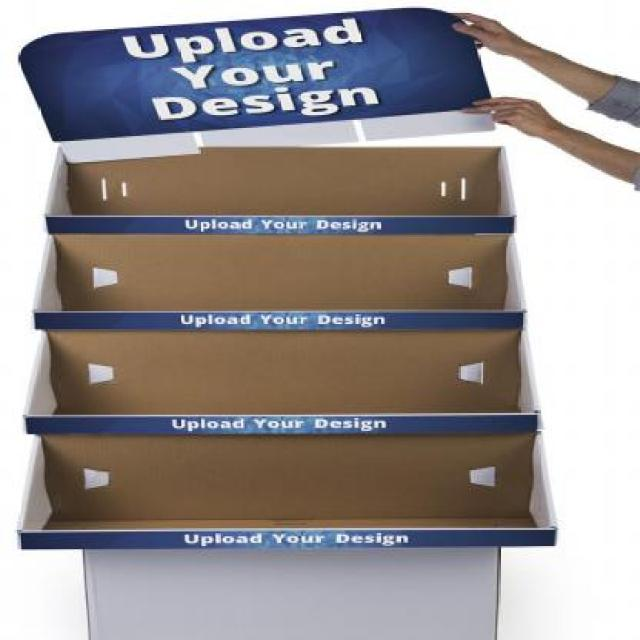box: (6, 1, 569, 640)
